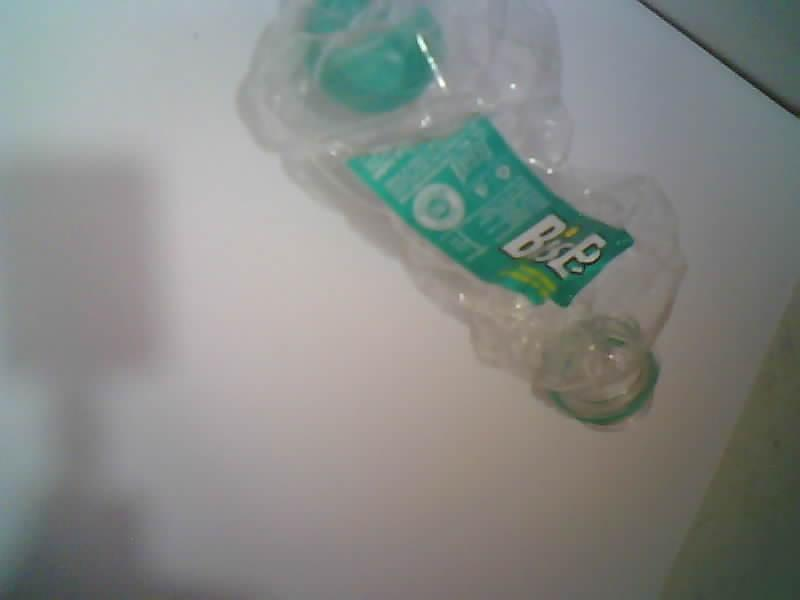non-biodegradable: (242, 0, 684, 424)
